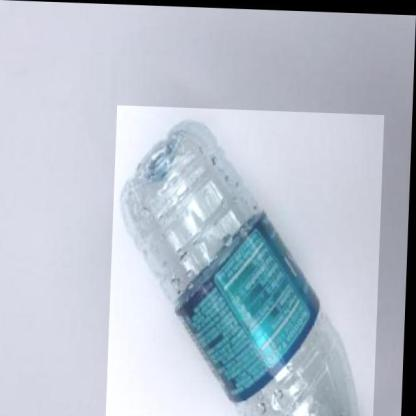Glass Bottle: (117, 113, 363, 416)
